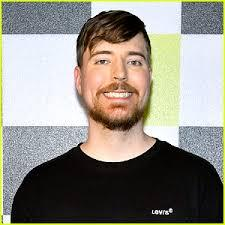Persons: (70, 4, 165, 146)
